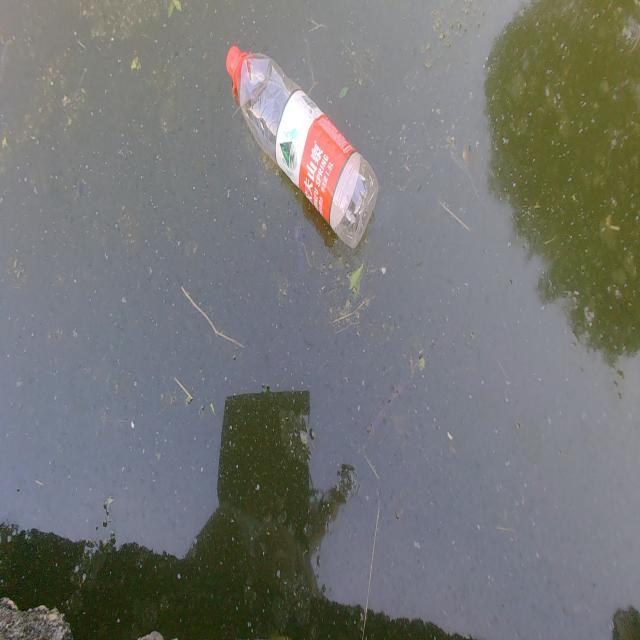bottle: (207, 13, 398, 260)
